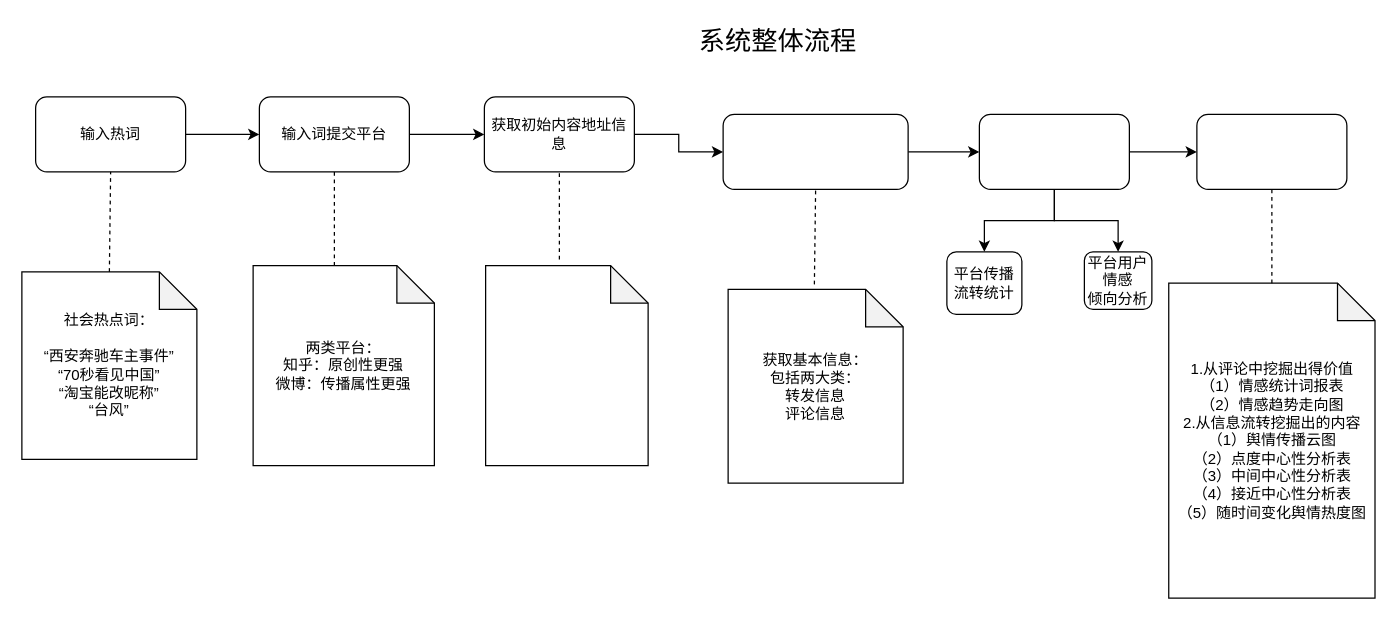
Image size: 1398x620. Some labels were removed from this diagram. Each missing label, with the centre of its shape:
"图表展示系统" goes at point 1271,151.
"提交至分布式爬虫框架" goes at point 815,151.
"数据处理" goes at point 1053,151.
"获取信息来源地址： 输出为一系列原始地址 注意：需要通过一些相似度判别方法进行和输入词的判别，过滤掉无效的话题" goes at point 566,365.
